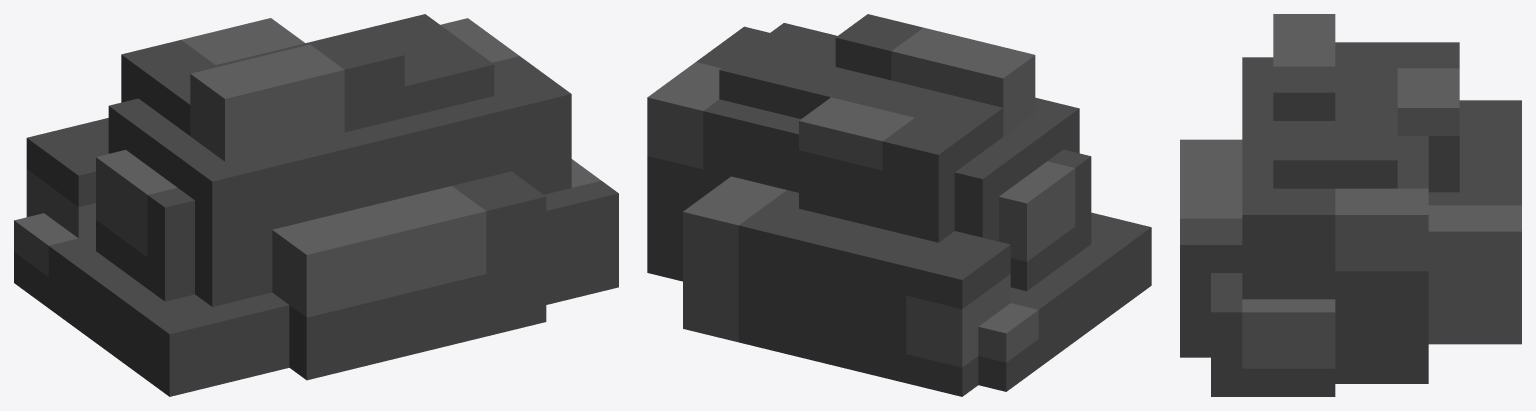
Rendered from Stones-2-Stone 1.obj.
3 views of the same model, side by side, from view 1: azimuth 30°, elevation 25°; view 2: azimuth 150°, elevation 25°; view 3: azimuth 270°, elevation 25° (orthographic). The views are drawn at different scales.
Visible parts, largest first — view 1: Stone 1; view 2: Stone 1; view 3: Stone 1.
Part boxes in pixels (x1,y1,x2,y2): Stone 1: [14, 14, 618, 396]; Stone 1: [647, 14, 1151, 396]; Stone 1: [1180, 14, 1521, 396].
Size of the model in its own units: 1.5 by 0.8 by 1.1.
1 material, 1 textured.
